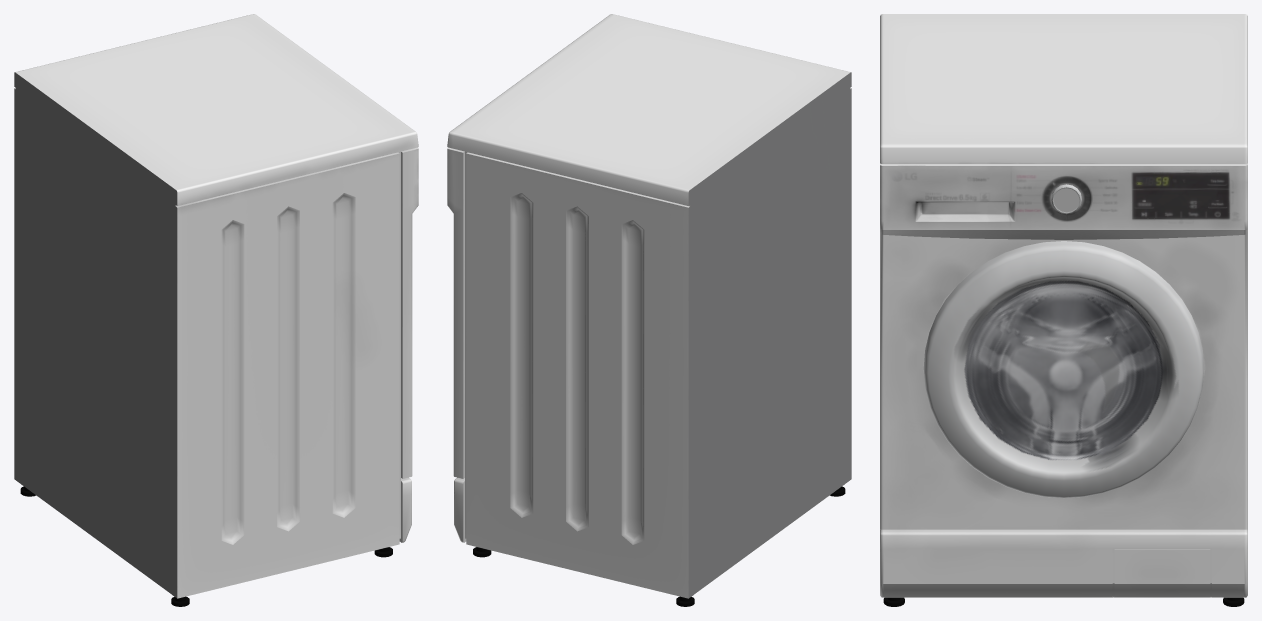
Rendered from SM_WashingMachine.fbx.
3 views of the same model, side by side, from view 1: azimuth 30°, elevation 25°; view 2: azimuth 150°, elevation 25°; view 3: azimuth 270°, elevation 25° (orthographic). The views are drawn at different scales.
Parts seen in each view (by area): view 1: SM_WashingMachine; view 2: SM_WashingMachine; view 3: SM_WashingMachine.
Boxes of the visible parts, <box> form: SM_WashingMachine: <box>14,14,418,606</box>; SM_WashingMachine: <box>447,14,851,606</box>; SM_WashingMachine: <box>880,14,1247,606</box>.
Size of the model in its own units: 52.94 by 84.89 by 59.98.
Materials: 1 (1 with a texture image).
